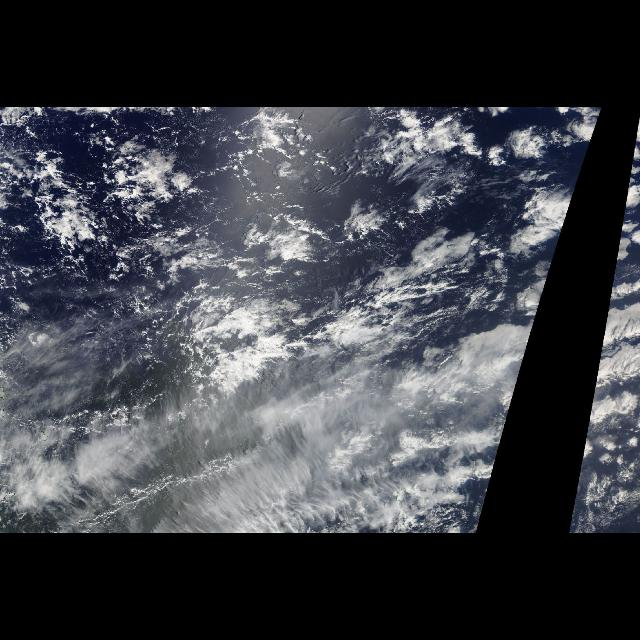Gravel: (0, 108, 224, 270)
